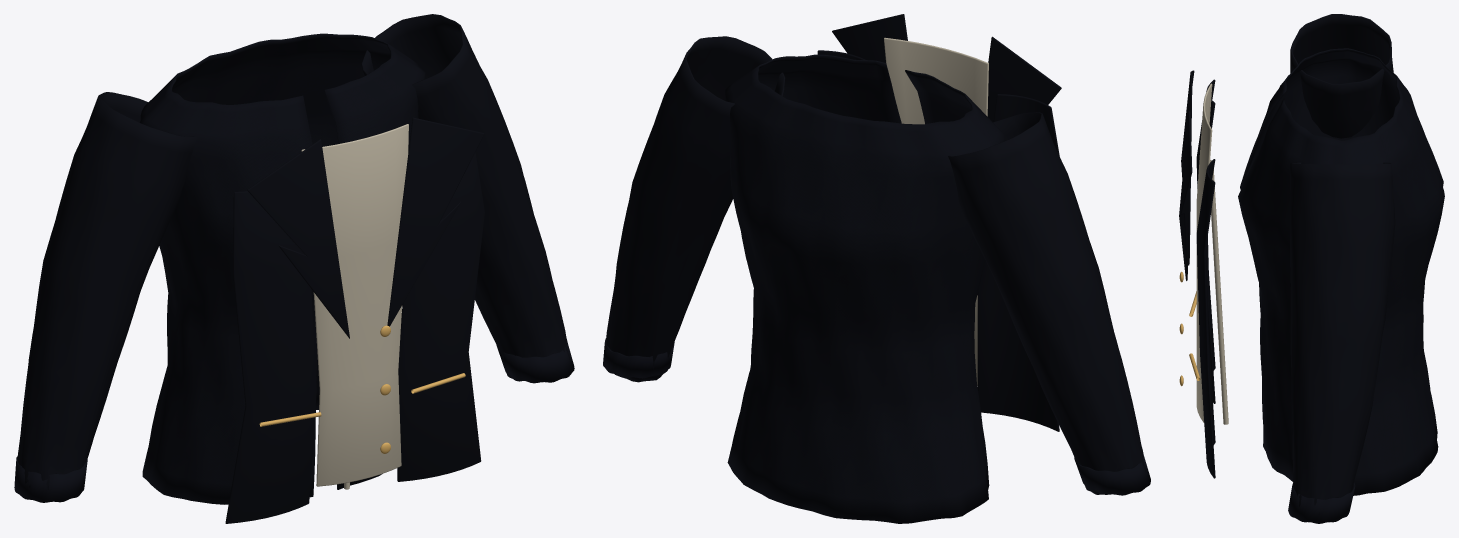
File: top-academy.glb
3 renders of one model, left to right at view 1: azimuth 30°, elevation 25°; view 2: azimuth 150°, elevation 25°; view 3: azimuth 270°, elevation 25°, orthographic. The views are drawn at different scales.
Visible parts, largest first — view 1: Blazer body; view 2: Blazer body; view 3: Blazer body.
Part boxes in pixels (x1,y1,x2,y2): Blazer body: [14, 14, 574, 523]; Blazer body: [603, 14, 1150, 523]; Blazer body: [1179, 14, 1444, 523].
Size of the model in its own units: 0.838 by 0.5795 by 0.3948.
Materials: 3 (2 with a texture image).
